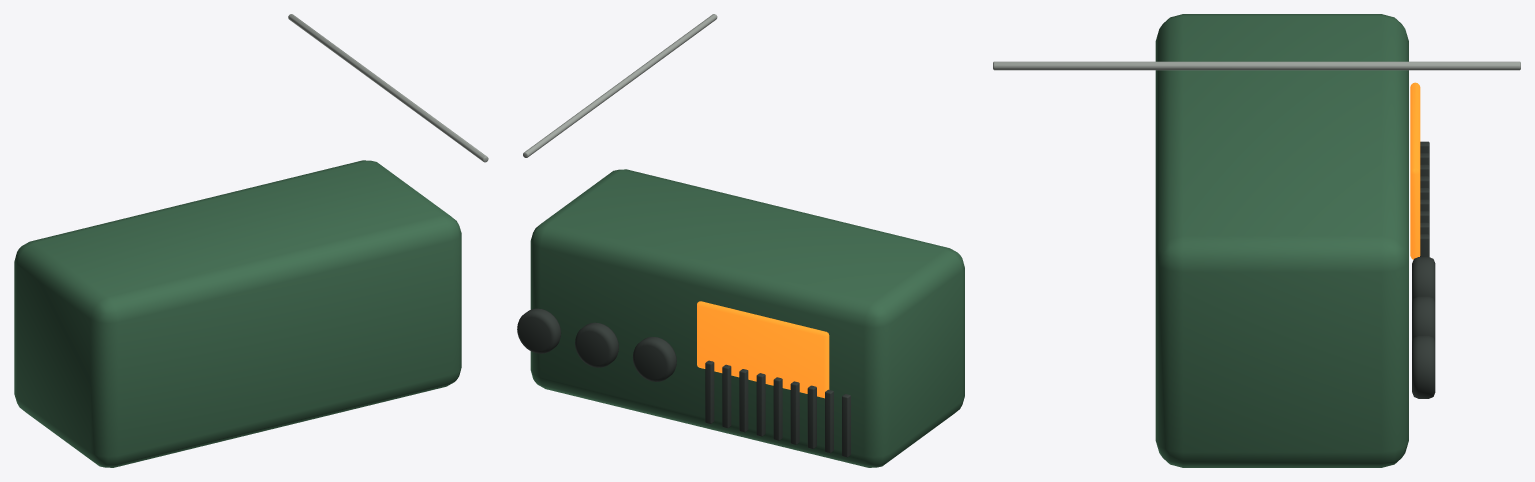
File: radio.glb
The picture shows the model from 3 angles, left to right: view 1: azimuth 30°, elevation 25°; view 2: azimuth 150°, elevation 25°; view 3: azimuth 270°, elevation 25°; orthographic projection. The views are drawn at different scales.
Visible parts, largest first — view 1: Radio_Body, Antenna; view 2: Radio_Body, Radio_Display, Antenna, Radio_Knob1, Radio_Knob2, Radio_Knob0, SpeakerSlot6, SpeakerSlot7, SpeakerSlot5, SpeakerSlot2, SpeakerSlot3, SpeakerSlot4 (+3 smaller); view 3: Radio_Body, Antenna, Radio_Display, Radio_Knob2, Radio_Knob0, Radio_Knob1.
Part boxes in pixels (x1,y1,x2,y2): Radio_Body: (14,160,461,467); Antenna: (288,14,488,162); Radio_Body: (530,169,964,467); Radio_Display: (697,301,829,398); Antenna: (523,14,717,157); Radio_Knob1: (575,322,618,367); Radio_Knob2: (517,308,561,353); Radio_Knob0: (633,337,676,381); SpeakerSlot6: (739,369,748,432); SpeakerSlot7: (722,364,731,428); SpeakerSlot5: (756,373,765,436); SpeakerSlot2: (807,385,816,448); SpeakerSlot3: (790,381,799,444); SpeakerSlot4: (773,377,782,440); Radio_Body: (1155,14,1408,467); Antenna: (993,61,1520,70); Radio_Display: (1410,82,1420,259); Radio_Knob2: (1412,335,1435,398); Radio_Knob0: (1412,257,1435,302); Radio_Knob1: (1412,296,1435,341).
Size of the model in its own units: 1.36 by 1.01 by 1.25.
